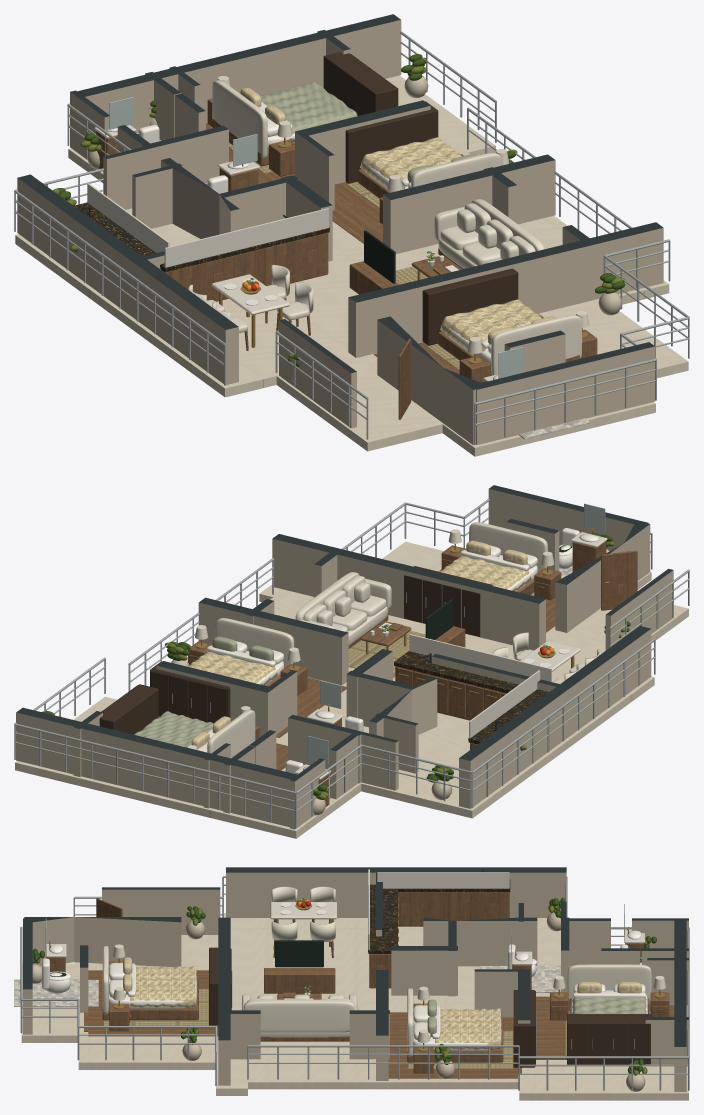
The picture shows the model from 3 angles, top to bottom: view 1: azimuth 30°, elevation 25°; view 2: azimuth 150°, elevation 25°; view 3: azimuth 270°, elevation 25°; orthographic projection. The views are drawn at different scales.
Parts seen in each view (by area): view 1: Source-traced internal and perimeter walls • Wall, Continuous apartment foundation, Base cabinets.001, Fitted dark wardrobe, Backsplash.001, Fitted dark wardrobe.001, Fitted dark wardrobe.002, Soft jacquard duvet with folds.002, Soft jacquard duvet with folds, Soft jacquard duvet with folds.001, Padded headboard.002, Padded headboard (+13 smaller); view 2: Source-traced internal and perimeter walls • Wall, Continuous apartment foundation, Backsplash.001, Fitted dark wardrobe.002, Oak entrance door, Padded headboard.001, Padded headboard, Soft jacquard duvet with folds, Soft jacquard duvet with folds.002, Soft jacquard duvet with folds.001, Deep green kitchen stone.001, Padded headboard.002 (+23 smaller); view 3: Source-traced internal and perimeter walls • Wall, Continuous apartment foundation, Base cabinets, Sofa back, Soft jacquard duvet with folds, Full bedroom wood flooring.001, Soft jacquard duvet with folds.001, Backsplash, Padded headboard.002, Walnut media console, Full bedroom wood flooring, Full bedroom wood flooring.002 (+38 smaller).
Part boxes in pixels (left/top/right/bottom): Source-traced internal and perimeter walls • Wall: left=17, top=14, right=663, bottom=445; Continuous apartment foundation: left=15, top=75, right=688, bottom=456; Base cabinets.001: left=161, top=233, right=328, bottom=301; Fitted dark wardrobe: left=422, top=268, right=518, bottom=345; Backsplash.001: left=164, top=208, right=328, bottom=267; Fitted dark wardrobe.001: left=345, top=101, right=438, bottom=183; Fitted dark wardrobe.002: left=323, top=52, right=397, bottom=115; Soft jacquard duvet with folds.002: left=260, top=81, right=357, bottom=141; Soft jacquard duvet with folds: left=440, top=299, right=541, bottom=356; Soft jacquard duvet with folds.001: left=360, top=137, right=461, bottom=191; Padded headboard.002: left=212, top=80, right=267, bottom=158; Padded headboard: left=491, top=315, right=582, bottom=375; Source-traced internal and perimeter walls • Wall: left=16, top=485, right=673, bottom=829; Continuous apartment foundation: left=15, top=541, right=688, bottom=838; Backsplash.001: left=409, top=634, right=551, bottom=681; Fitted dark wardrobe.002: left=99, top=684, right=158, bottom=734; Oak entrance door: left=601, top=550, right=637, bottom=610; Padded headboard.001: left=215, top=618, right=294, bottom=668; Padded headboard: left=469, top=522, right=547, bottom=572; Soft jacquard duvet with folds: left=439, top=555, right=531, bottom=591; Soft jacquard duvet with folds.002: left=134, top=711, right=213, bottom=747; Soft jacquard duvet with folds.001: left=188, top=651, right=277, bottom=685; Deep green kitchen stone.001: left=394, top=651, right=542, bottom=696; Padded headboard.002: left=207, top=709, right=255, bottom=758; Source-traced internal and perimeter walls • Wall: left=23, top=867, right=688, bottom=1091; Continuous apartment foundation: left=21, top=913, right=688, bottom=1100; Base cabinets: left=398, top=892, right=509, bottom=926; Sofa back: left=243, top=999, right=355, bottom=1032; Soft jacquard duvet with folds: left=130, top=966, right=196, bottom=1007; Full bedroom wood flooring.001: left=388, top=1012, right=517, bottom=1078; Soft jacquard duvet with folds.001: left=435, top=1008, right=501, bottom=1049; Backsplash: left=377, top=872, right=509, bottom=888; Padded headboard.002: left=567, top=964, right=651, bottom=1002; Walnut media console: left=264, top=968, right=335, bottom=993; Full bedroom wood flooring: left=88, top=970, right=218, bottom=1036; Full bedroom wood flooring.002: left=536, top=996, right=674, bottom=1059.
Size of the model in its own units: 9.79 by 1.7 by 15.19.
26 materials, 6 textured.
